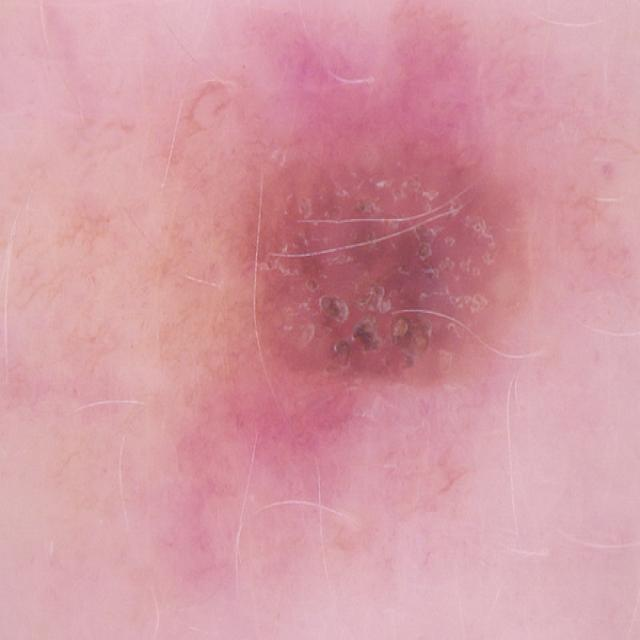Skin-Cancer Pigmented benign keratosis: (107, 0, 613, 565)
